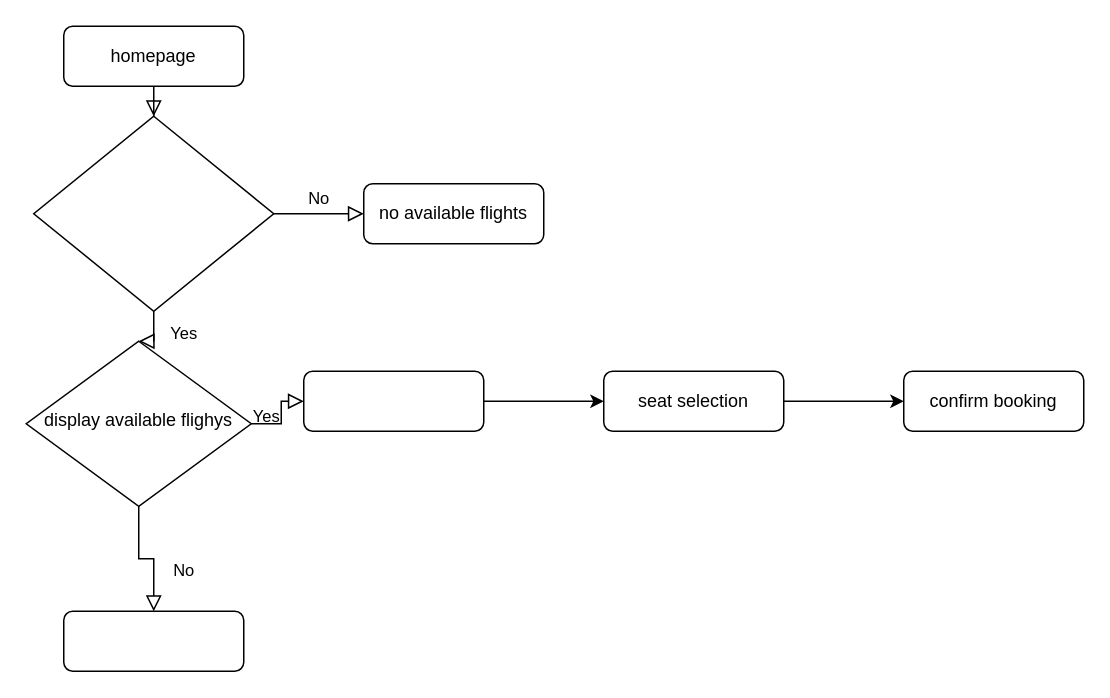
Image size: 1110x698. Some labels were removed from this diagram. Here are the shapes that lost their labels. From the top down, the centre of each, then its label:
At point 153,213: "search for flights within parameters".
At point 393,400: "book flight".
At point 153,640: "keep searching".
